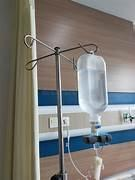Iv_Bottle: (77, 53, 107, 124)
